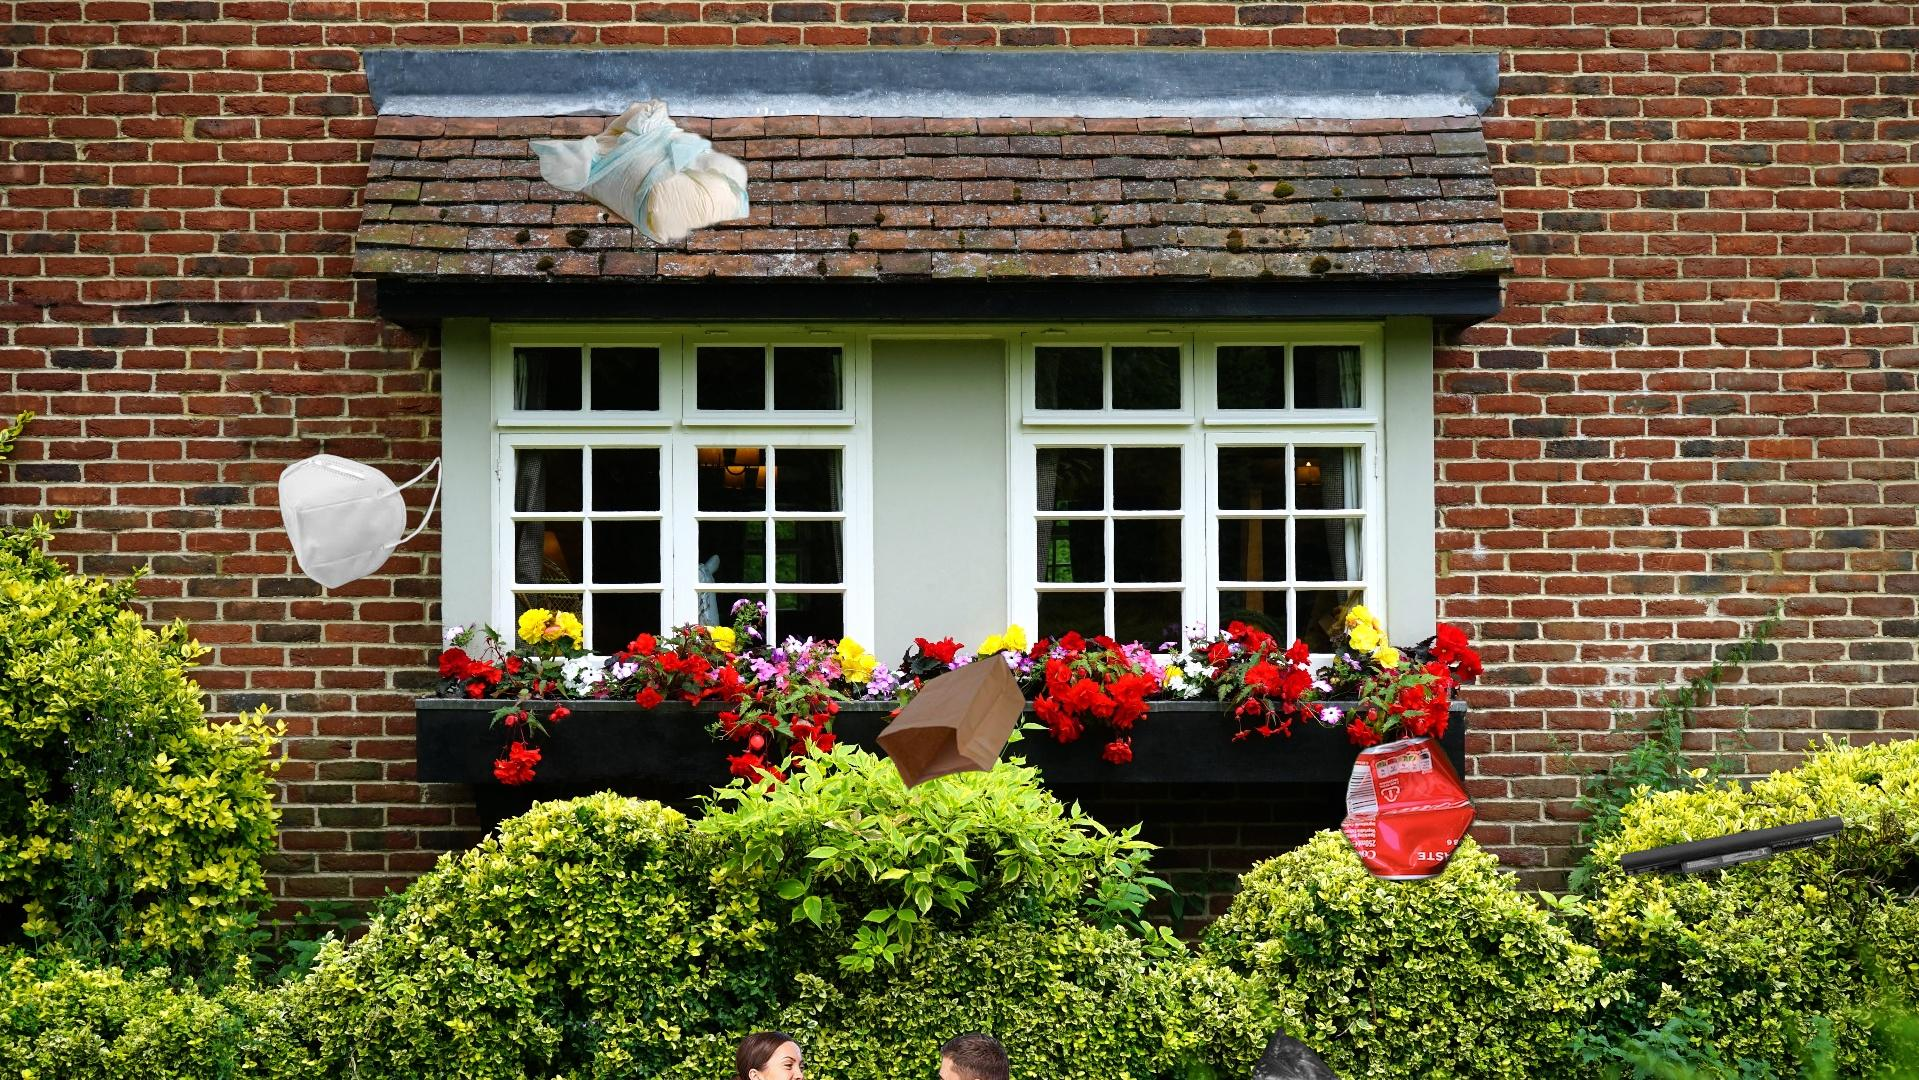battery: (1618, 814, 1844, 881)
metal-cans: (1335, 731, 1483, 887)
paper-bag: (874, 651, 1029, 794)
plastic-bag: (1249, 1023, 1356, 1080)
plastic-bottles: (1781, 924, 1919, 1080)
trash: (525, 92, 757, 247), (275, 451, 445, 592)
trashbox-cardboard: (685, 1031, 1044, 1080)
